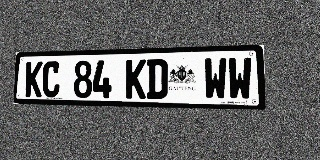4: (92, 60, 112, 98)
8: (73, 60, 93, 98)
C: (42, 61, 60, 97)
D: (147, 59, 168, 99)
K: (126, 59, 146, 99), (25, 61, 43, 97)
W: (228, 57, 252, 100), (204, 58, 227, 100)
